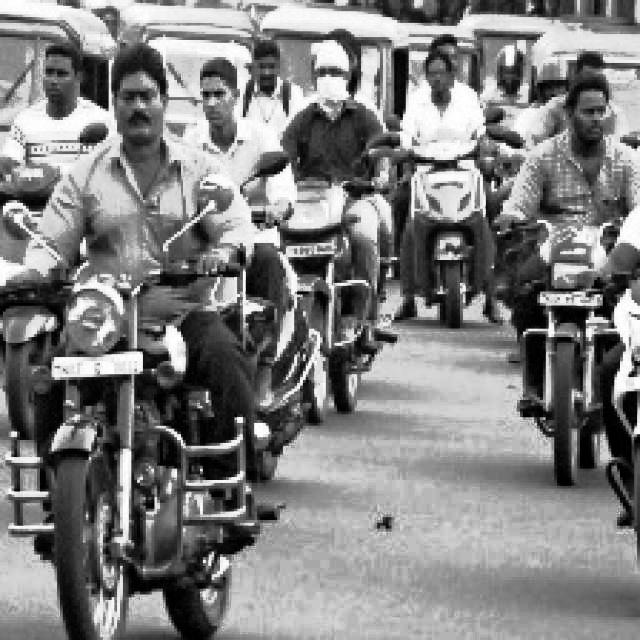Bike: (28, 279, 248, 639), (521, 202, 619, 480), (271, 161, 374, 407), (406, 130, 494, 310)
